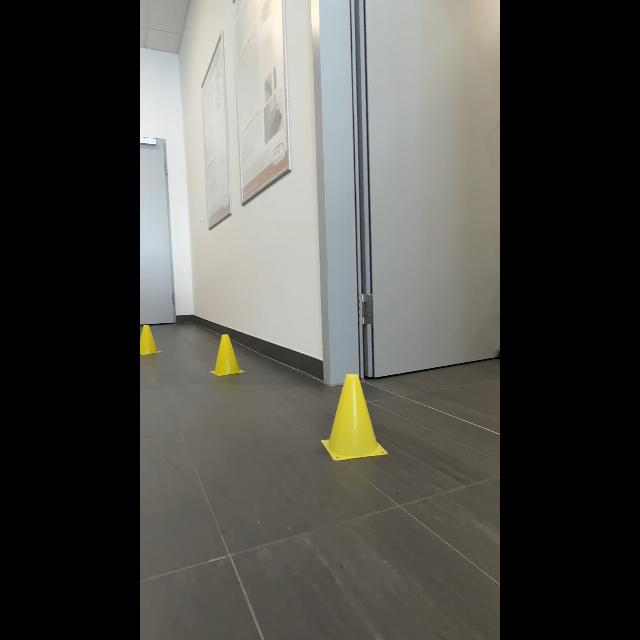yellow_cone: (319, 368, 389, 466), (208, 328, 248, 379), (140, 319, 162, 359)
